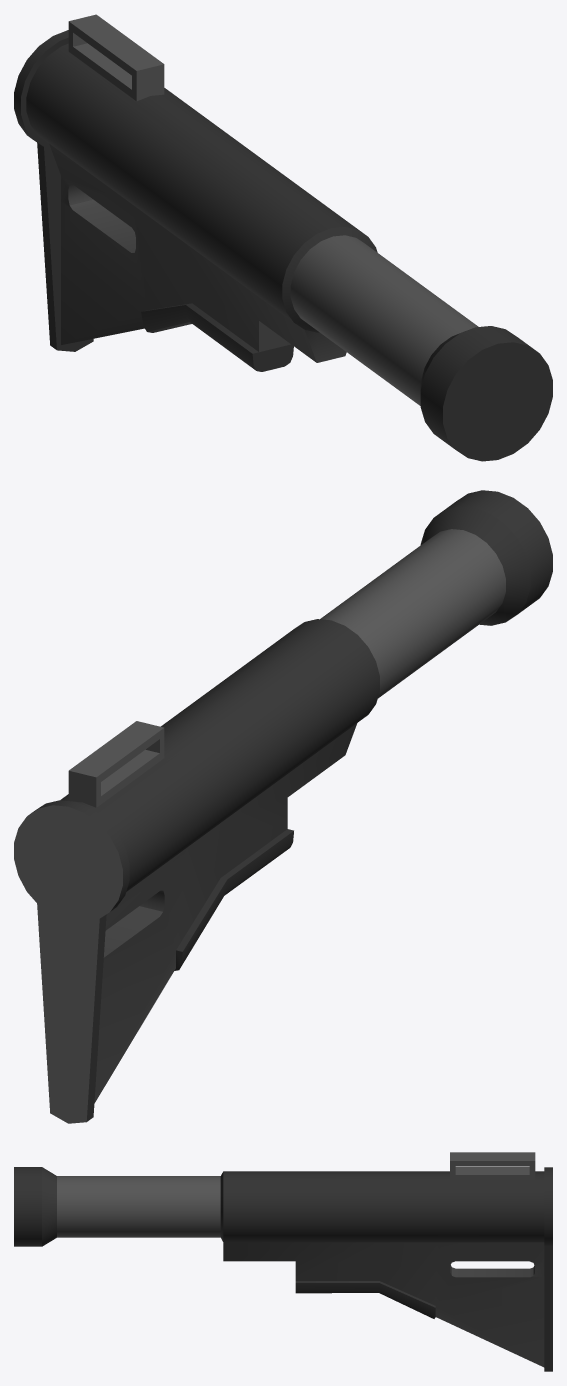
File: stock_5.fbx
The picture shows the model from 3 angles, top to bottom: view 1: azimuth 30°, elevation 25°; view 2: azimuth 150°, elevation 25°; view 3: azimuth 270°, elevation 25°; orthographic projection. The views are drawn at different scales.
Visible parts, largest first — view 1: stock_5; view 2: stock_5; view 3: stock_5.
Part boxes in pixels (left/top/right/bottom): stock_5: left=14, top=14, right=552, bottom=461; stock_5: left=14, top=490, right=552, bottom=1123; stock_5: left=14, top=1152, right=552, bottom=1371.
Size of the model in its own units: 187 by 552 by 1267.
